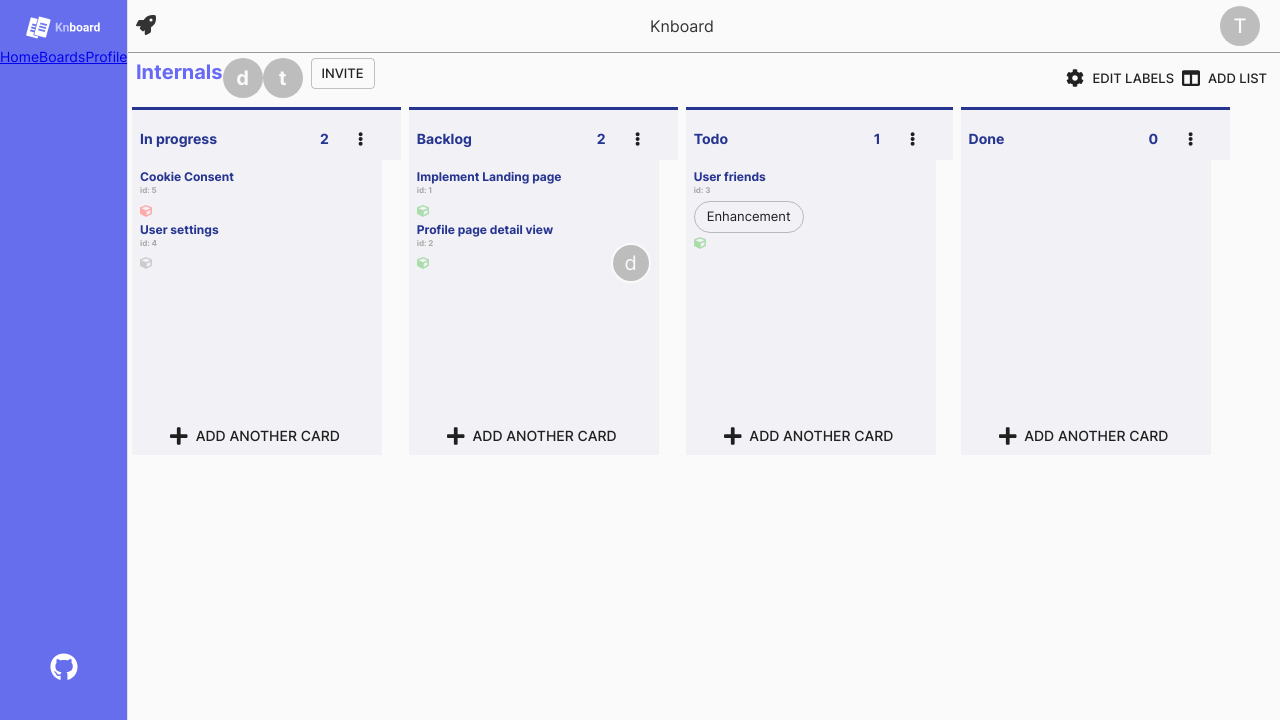
Test case: Task › should create task
This screenshot has width=1280, height=720.
Click the 1st text "Add another card" at (255, 436), box x1=170 y1=426 x2=340 y2=446
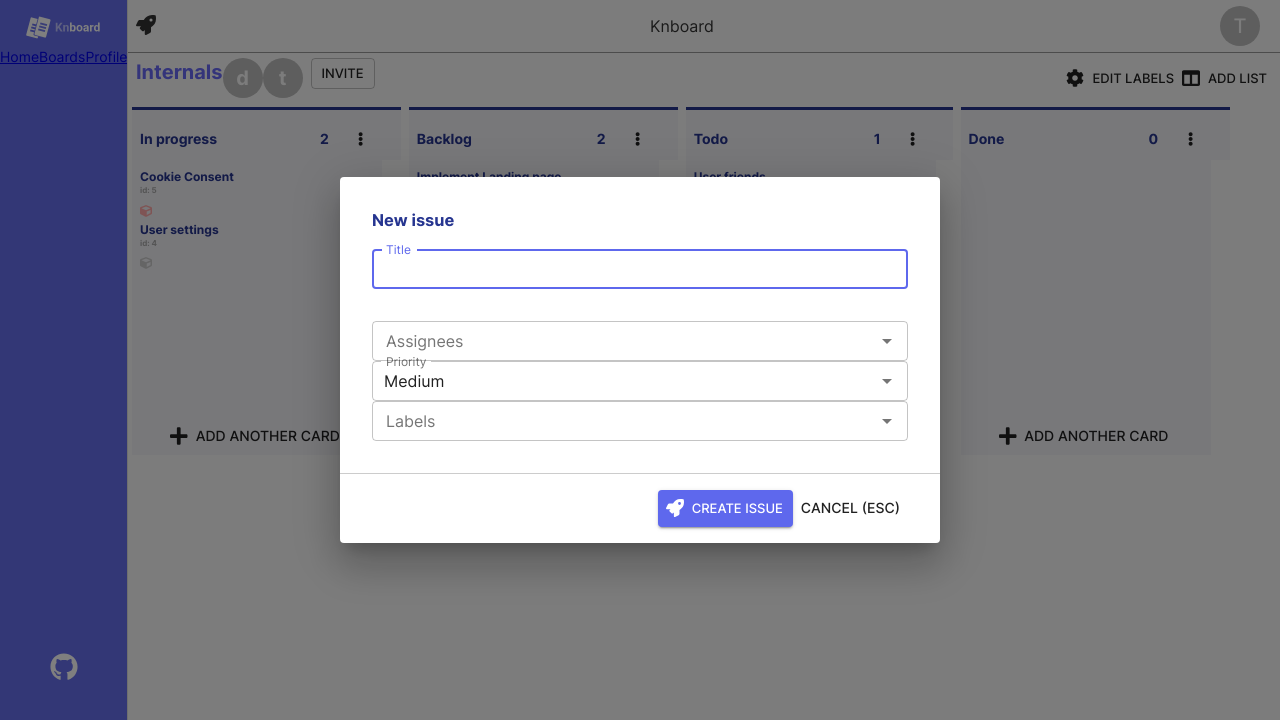
Type "Improve CI" into the element with test id "create-task-title" at (640, 269), box x1=372 y1=249 x2=908 y2=289
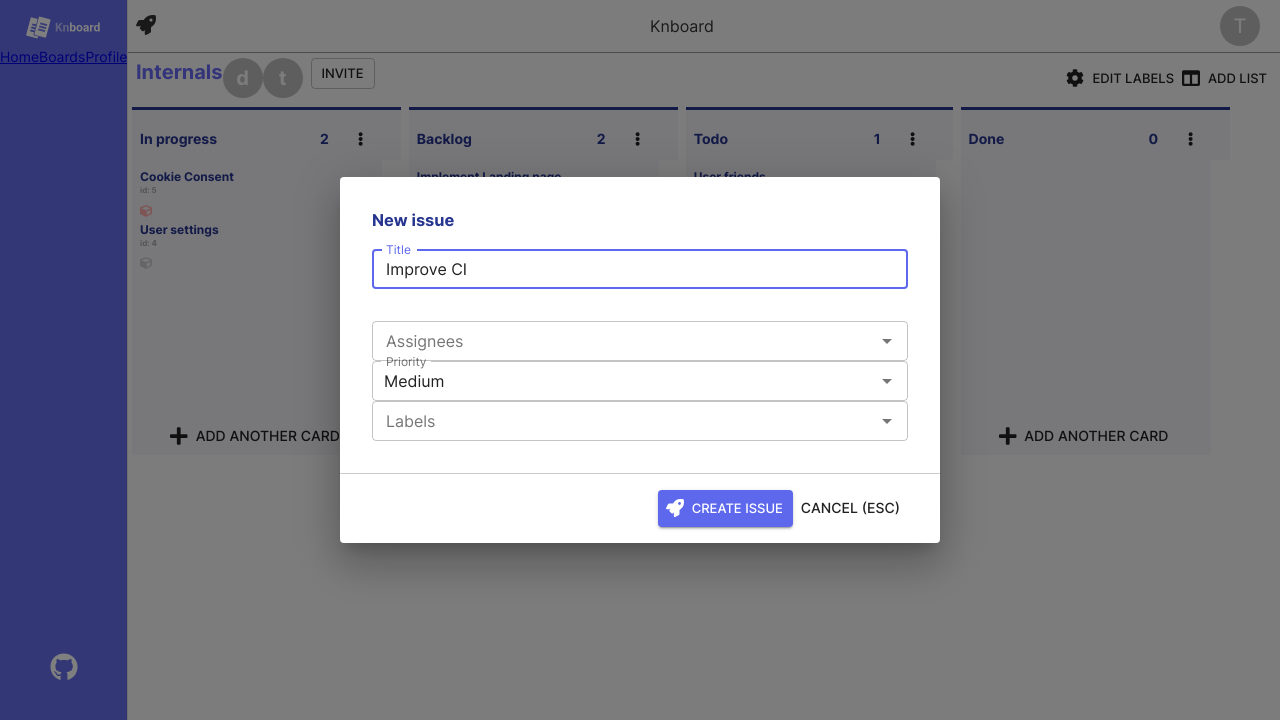
Click the button with test id "task-create" at (726, 509), box x1=658 y1=490 x2=793 y2=527
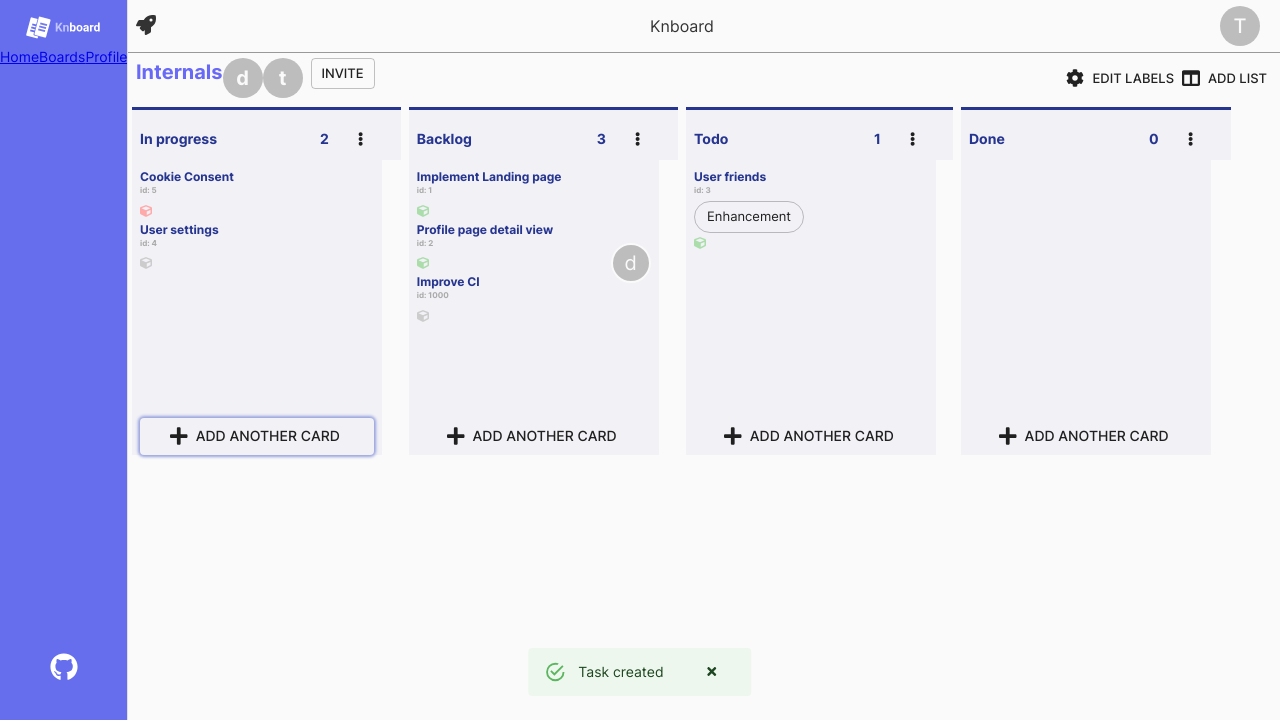
Result: the text "Improve CI" is shown at x1=417 y1=274 x2=480 y2=289
